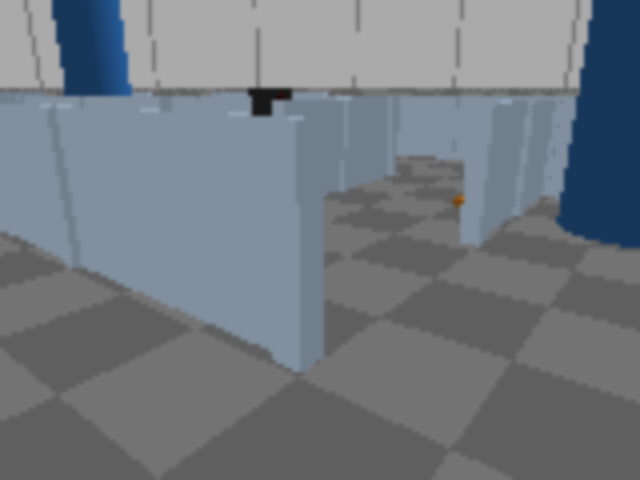person: (558, 0, 638, 246)
puck: (451, 194, 471, 212)
